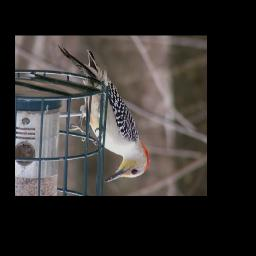Woodpecker: (58, 44, 152, 185)
